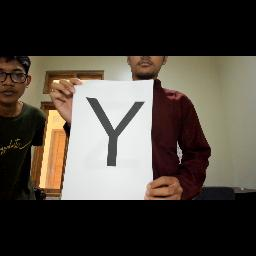y: (84, 92, 148, 172)
